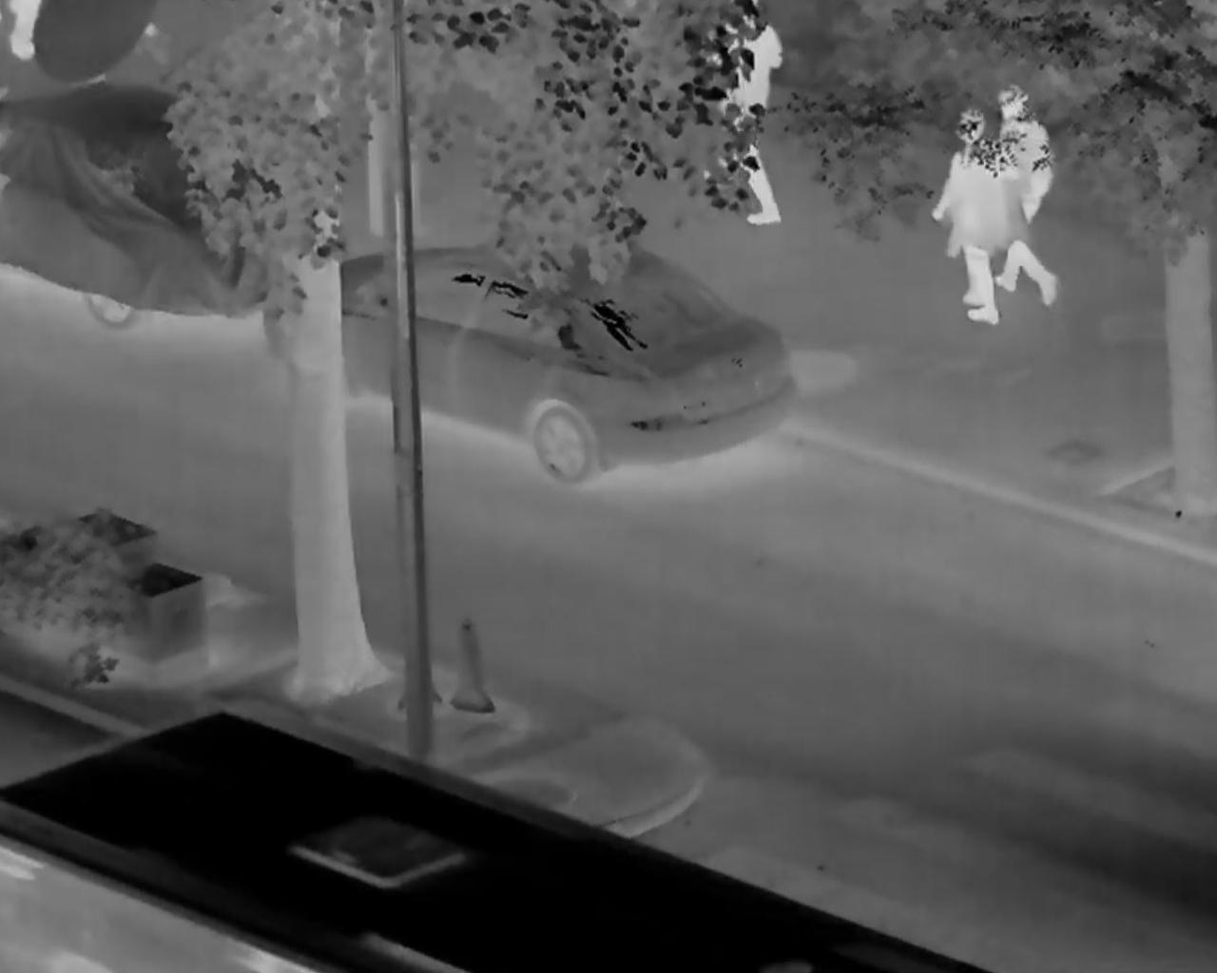person: (929, 112, 1009, 327), (989, 83, 1060, 309)
